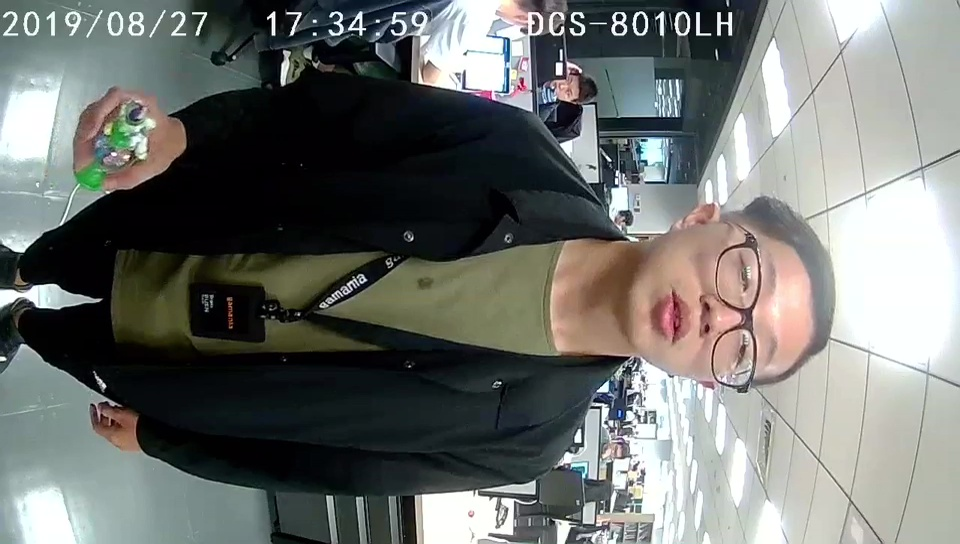buzz: (73, 96, 157, 190)
